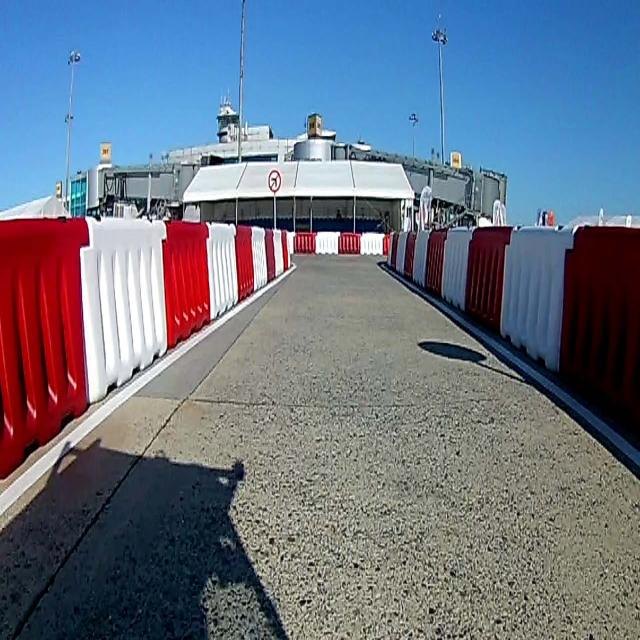soladonulmez: (268, 170, 281, 193)
